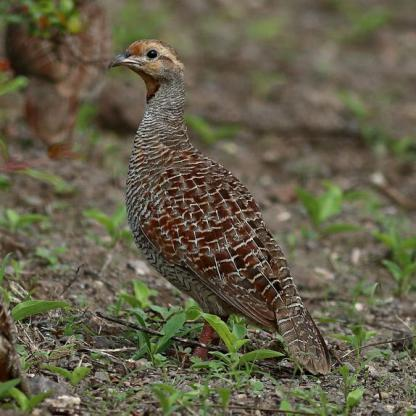Burung: (106, 39, 332, 375)
